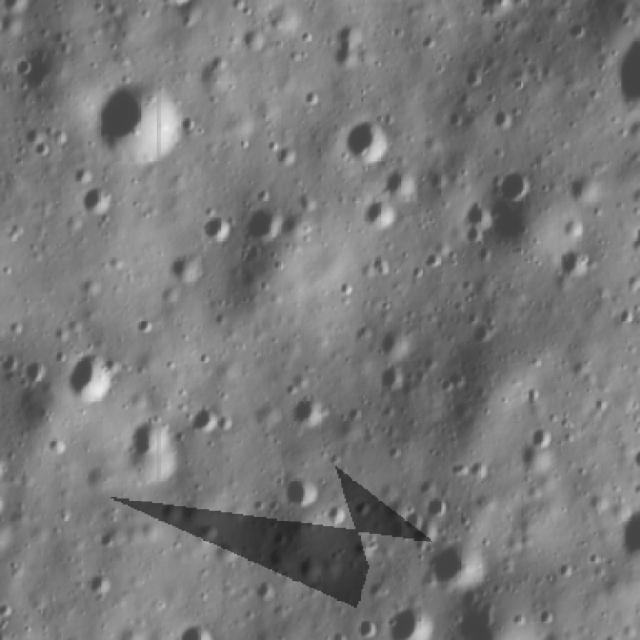crater: (90, 72, 184, 177), (422, 534, 488, 600), (120, 414, 178, 486), (64, 349, 121, 411), (342, 110, 396, 165), (384, 600, 441, 638), (242, 199, 284, 246), (492, 164, 536, 207), (168, 246, 214, 286), (201, 205, 239, 248), (292, 391, 331, 431), (564, 168, 605, 206), (558, 242, 597, 281), (378, 322, 417, 360), (356, 197, 398, 232), (282, 474, 320, 512), (383, 163, 422, 200), (86, 180, 122, 220), (323, 36, 362, 72), (458, 196, 500, 229), (203, 50, 239, 88), (295, 548, 330, 586), (184, 402, 218, 440), (525, 417, 561, 452), (614, 506, 640, 554), (374, 361, 408, 397), (456, 60, 490, 94), (487, 104, 521, 138), (236, 24, 269, 56), (271, 140, 303, 172), (421, 491, 454, 522), (84, 573, 121, 598), (22, 350, 48, 385), (13, 51, 38, 87), (561, 213, 590, 244), (398, 508, 428, 537), (252, 576, 279, 607), (325, 501, 352, 530), (456, 223, 487, 248), (354, 612, 384, 637), (560, 20, 592, 43), (294, 188, 326, 210), (213, 412, 241, 436), (96, 529, 122, 554), (72, 158, 96, 184), (420, 250, 446, 272), (135, 313, 157, 336)
